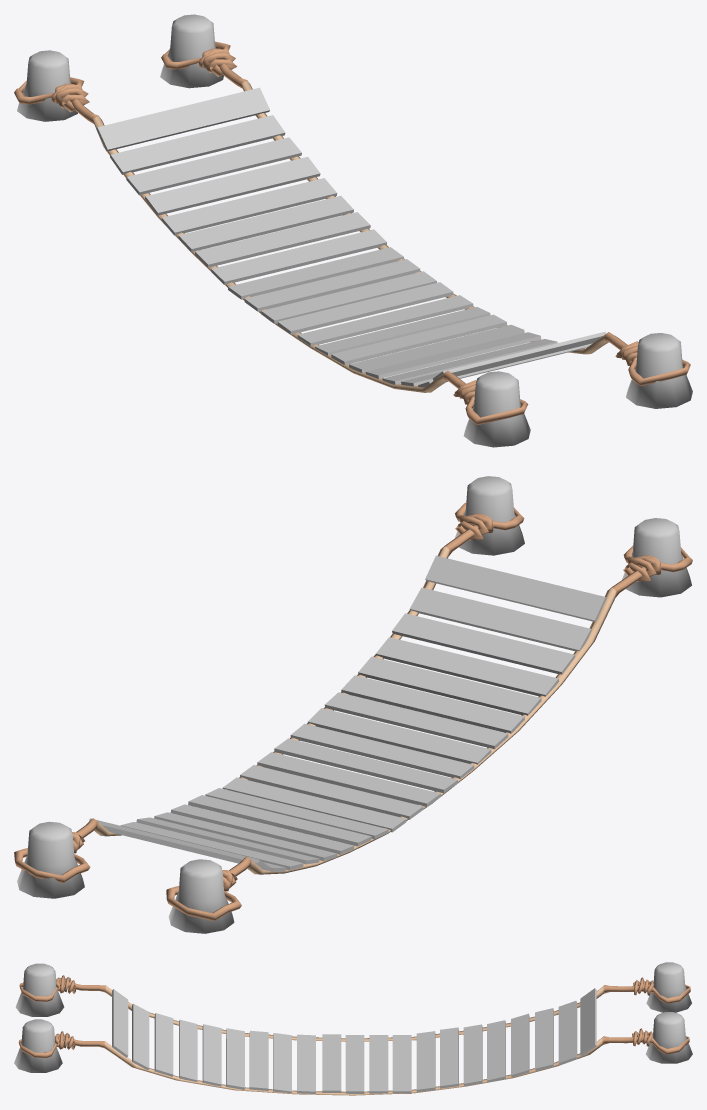
Rendered from Dittmar_RopeBridge.fbx.
The picture shows the model from 3 angles, top to bottom: view 1: azimuth 30°, elevation 25°; view 2: azimuth 150°, elevation 25°; view 3: azimuth 270°, elevation 25°; orthographic projection. The views are drawn at different scales.
Visible parts, largest first — view 1: Cylinder.003; view 2: Cylinder.003; view 3: Cylinder.003.
Boxes of the visible parts, left/top/right/bottom form: Cylinder.003: left=14, top=14, right=692, bottom=447; Cylinder.003: left=14, top=476, right=692, bottom=933; Cylinder.003: left=14, top=962, right=692, bottom=1095.
Size of the model in its own units: 122 by 52.33 by 437.
